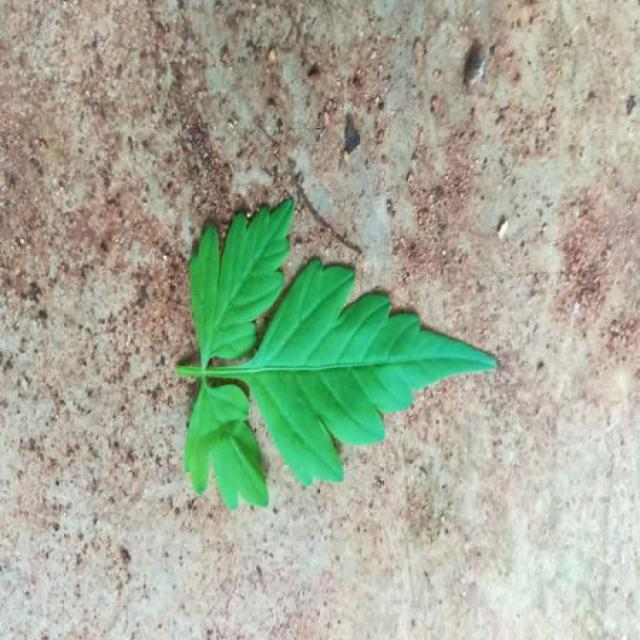balloon_Vine: (177, 200, 497, 508)
